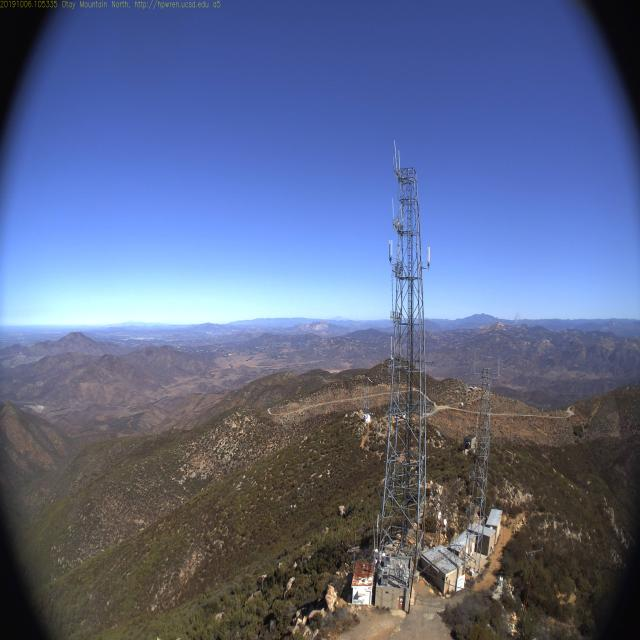smoke: (510, 306, 522, 326)
